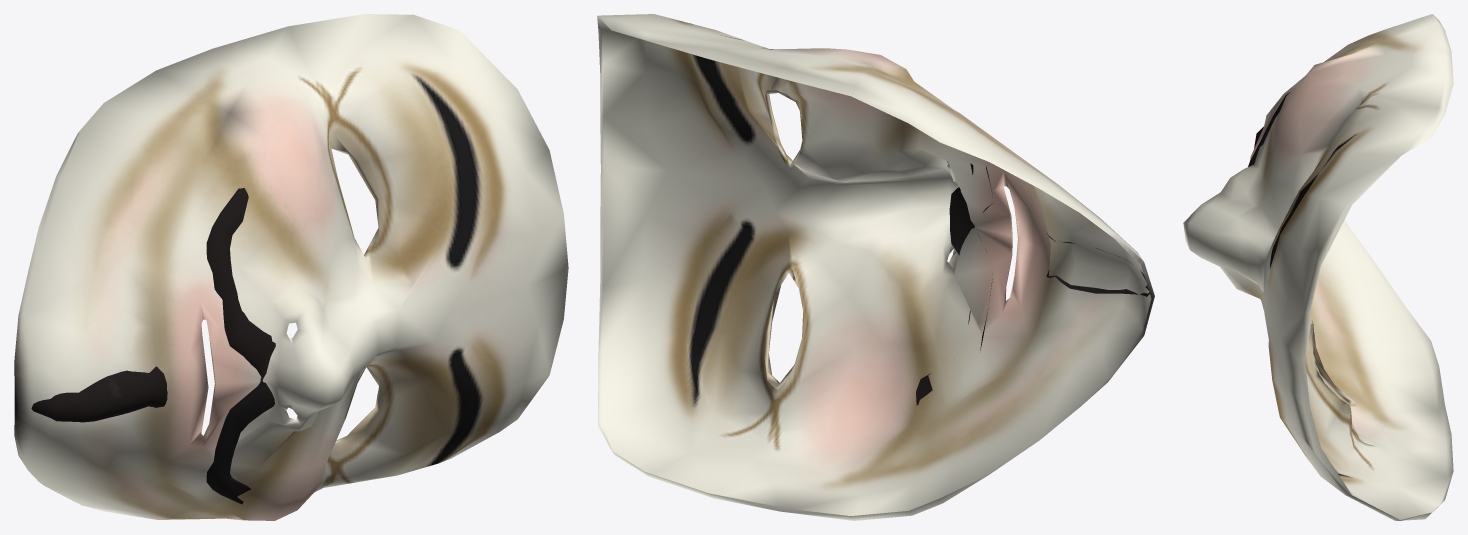
Rendered from M_GuyFawkesMask.fbx.
3 views of the same model, side by side, from view 1: azimuth 30°, elevation 25°; view 2: azimuth 150°, elevation 25°; view 3: azimuth 270°, elevation 25° (orthographic). The views are drawn at different scales.
Parts seen in each view (by area): view 1: 40_mesh0_0.1_16_16; view 2: 40_mesh0_0.1_16_16; view 3: 40_mesh0_0.1_16_16.
Part boxes in pixels (<box>): 40_mesh0_0.1_16_16: <box>14,14,568,520</box>; 40_mesh0_0.1_16_16: <box>597,14,1154,520</box>; 40_mesh0_0.1_16_16: <box>1183,14,1453,520</box>.
Bounding box in the file's own units: 0.124 × 0.0974 × 0.0595.
